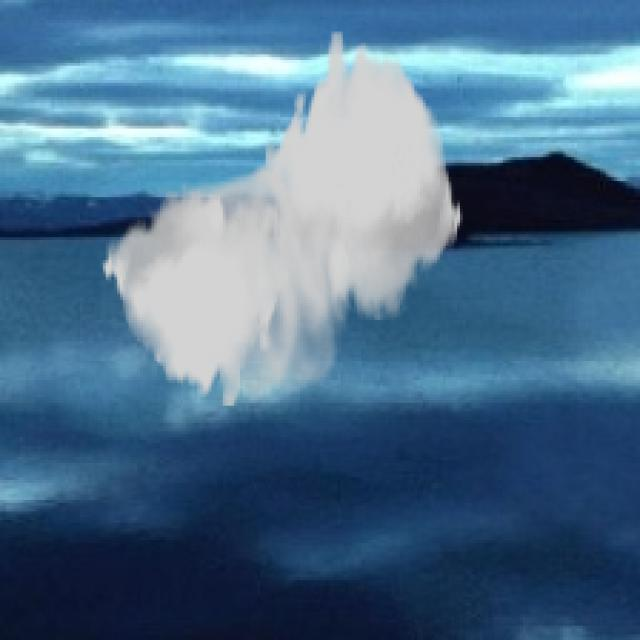smoke: (100, 31, 463, 408)
